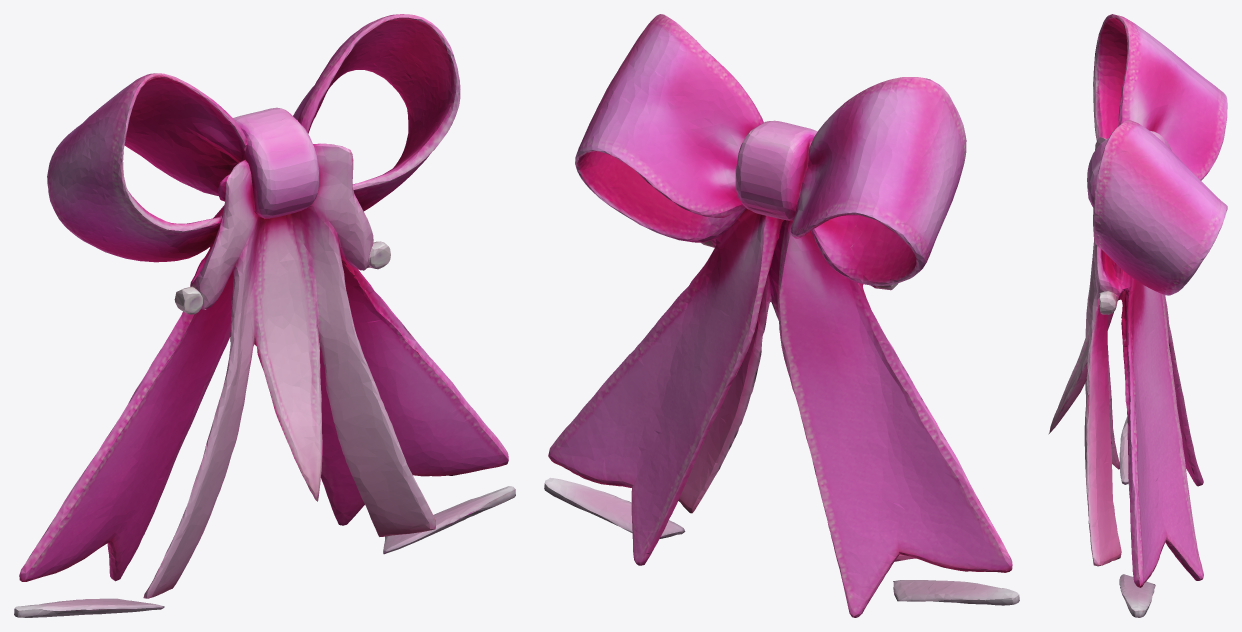
The model's file is hat_bow.glb.
3 renders of one model, left to right at view 1: azimuth 30°, elevation 25°; view 2: azimuth 150°, elevation 25°; view 3: azimuth 270°, elevation 25°, orthographic. The views are drawn at different scales.
Visible parts, largest first — view 1: world; view 2: world; view 3: world.
Part boxes in pixels (x1,y1,x2,y2): world: (14,14,515,617); world: (544,14,1019,617); world: (1048,14,1227,617).
Size of the model in its own units: 0.9656 by 0.9994 by 0.3515.
1 material, 1 textured.
